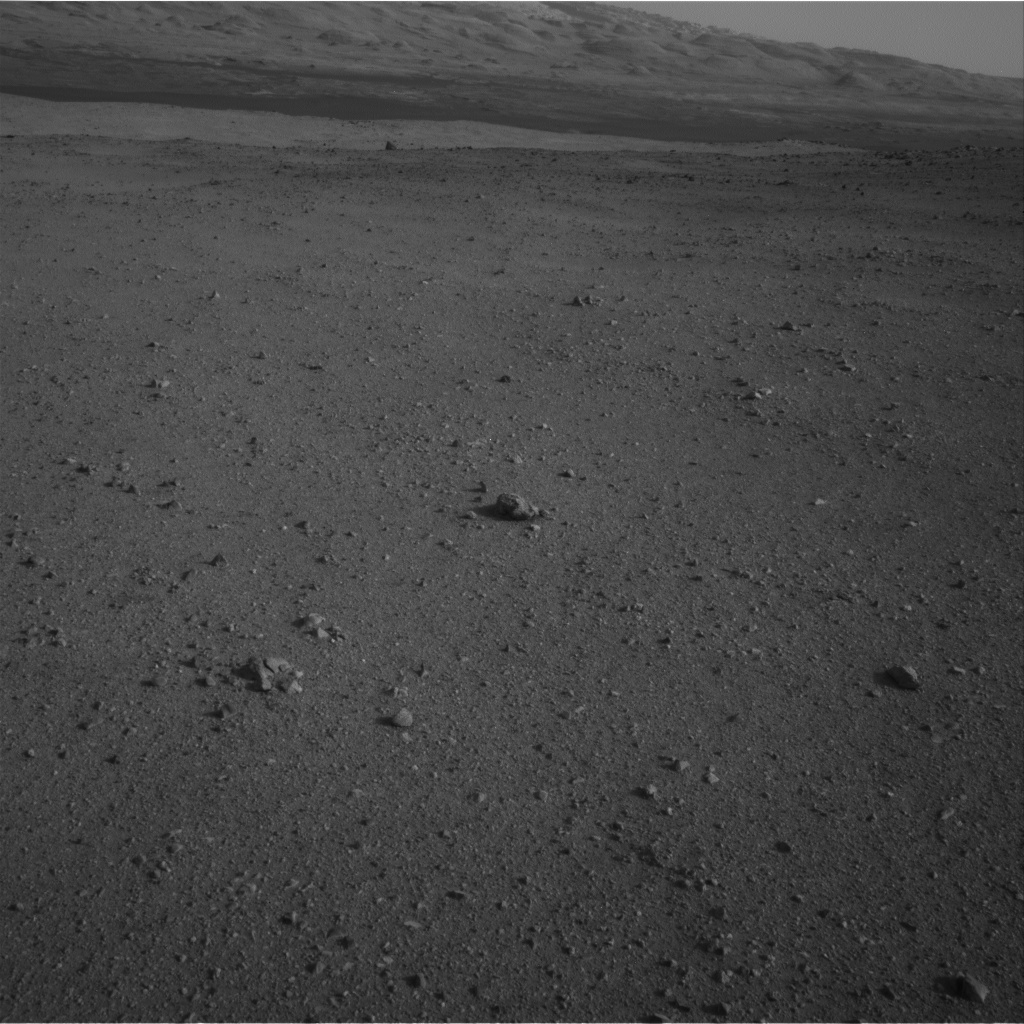soil: (5, 178, 1020, 1015)
